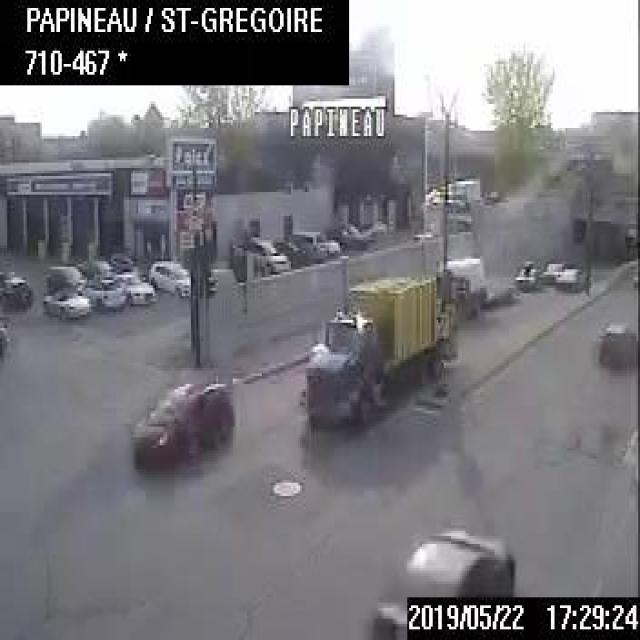vehicle: (300, 253, 441, 424), (369, 523, 513, 637), (125, 379, 233, 461), (443, 254, 492, 314), (230, 232, 290, 276), (148, 256, 191, 296), (595, 317, 634, 360), (42, 286, 87, 320), (0, 266, 31, 314), (116, 271, 152, 305), (44, 261, 86, 290), (86, 277, 124, 309), (554, 263, 593, 293), (513, 253, 542, 291), (292, 229, 326, 258), (271, 237, 304, 266), (79, 257, 113, 284), (539, 260, 565, 282), (107, 250, 131, 269)
